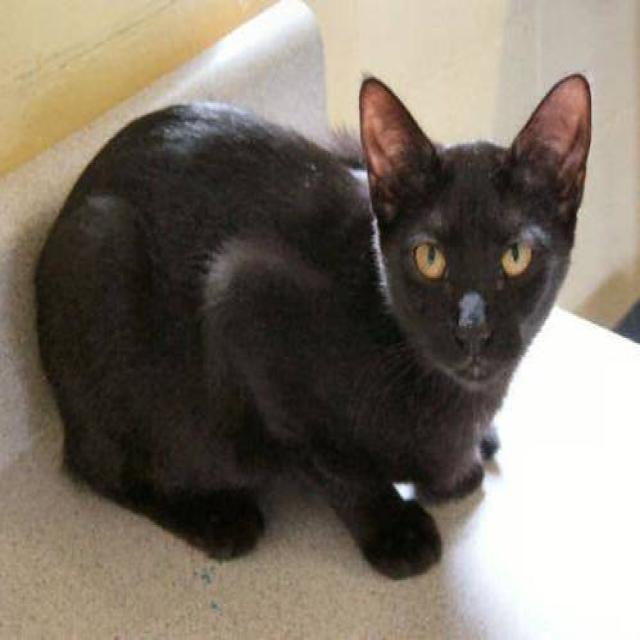cat: (32, 70, 593, 580)
